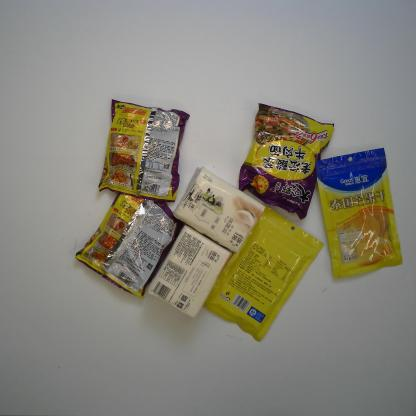Dried Fruit: (202, 205, 324, 343), (314, 146, 403, 280)
Instant Noodles: (236, 102, 335, 222), (75, 192, 185, 299), (97, 98, 191, 204)
Tissue: (146, 223, 234, 320), (172, 166, 266, 255)
